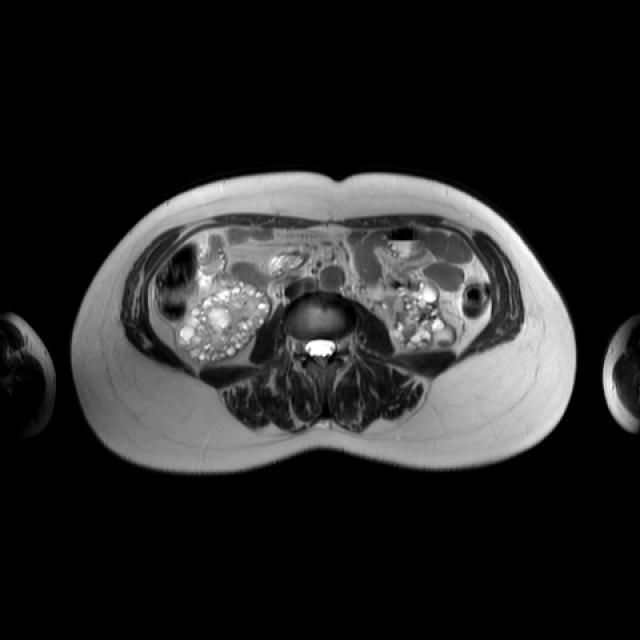sag: (177, 281, 273, 365)
sol: (385, 278, 458, 351)
